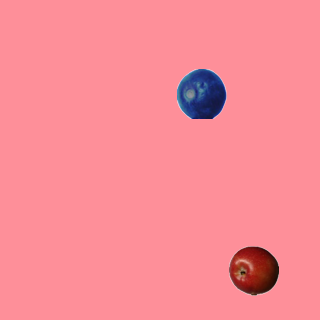Apple Braeburn: (228, 245, 278, 295)
Huckleberry: (176, 68, 226, 118)
